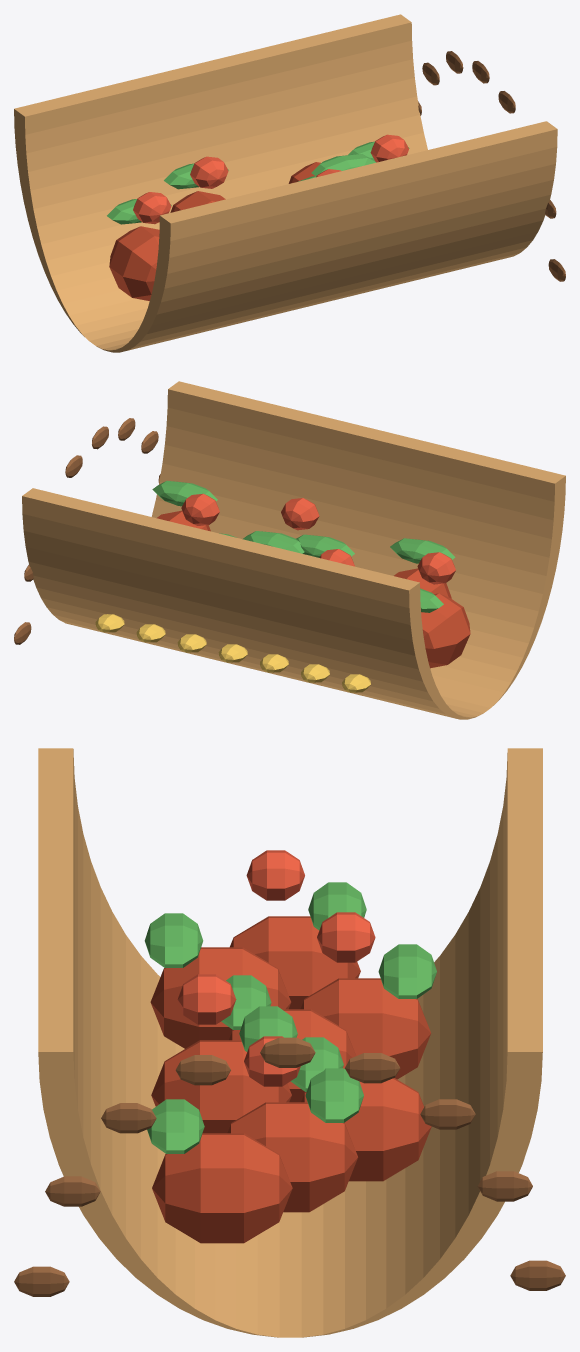
Rendered from taco_isla_r3.glb.
3 views of the same model, one above another, from view 1: azimuth 30°, elevation 25°; view 2: azimuth 150°, elevation 25°; view 3: azimuth 270°, elevation 25° (orthographic). The views are drawn at different scales.
Parts seen in each view (by area): view 1: taco gigante tortilla en U, pastor, jitomate.001, jitomate, jitomate.003, lechuga.005, pastor.002, lechuga.002, lechuga; view 2: taco gigante tortilla en U, pastor, jitomate, jitomate.002, jitomate.003, lechuga.001, lechuga.007, lechuga.003, lechuga.004, pastor.001, queso, queso.006 (+5 smaller); view 3: taco gigante tortilla en U, pastor.007, pastor.006, pastor.002, pastor.005, pastor.004, pastor.001, pastor, lechuga.001, lechuga.002, lechuga.006, lechuga.007 (+18 smaller).
Boxes of the visible parts, box(x1,y1,x2,y2) form: taco gigante tortilla en U: box(14, 14, 557, 352); pastor: box(109, 226, 159, 300); jitomate.001: box(190, 156, 228, 188); jitomate: box(133, 192, 171, 224); jitomate.003: box(370, 134, 408, 162); lechuga.005: box(311, 154, 376, 175); pastor.002: box(170, 191, 225, 212); lechuga.002: box(164, 163, 228, 189); lechuga: box(107, 199, 171, 224); taco gigante tortilla en U: box(22, 381, 565, 719); pastor: box(421, 593, 470, 668); jitomate: box(417, 552, 455, 584); jitomate.002: box(281, 498, 319, 530); jitomate.003: box(181, 493, 219, 525); lechuga.001: box(390, 538, 455, 563); lechuga.007: box(152, 480, 217, 506); lechuga.003: box(296, 534, 354, 557); lechuga.004: box(242, 531, 304, 553); pastor.001: box(394, 568, 451, 598); queso: box(342, 674, 370, 692); queso.006: box(95, 614, 124, 632); taco gigante tortilla en U: box(38, 748, 542, 1337); pastor.007: box(152, 1133, 292, 1243); pastor.006: box(227, 1102, 357, 1212); pastor.002: box(300, 978, 431, 1079); pastor.005: box(301, 1078, 431, 1181); pastor.004: box(151, 1040, 291, 1133); pastor.001: box(150, 947, 291, 1048); pastor: box(230, 916, 360, 1009); lechuga.001: box(144, 913, 203, 967); lechuga.002: box(378, 944, 436, 998); lechuga.006: box(305, 1068, 363, 1122); lechuga.007: box(147, 1099, 204, 1153).
Size of the model in its own units: 4.94 by 2.26 by 3.76.
